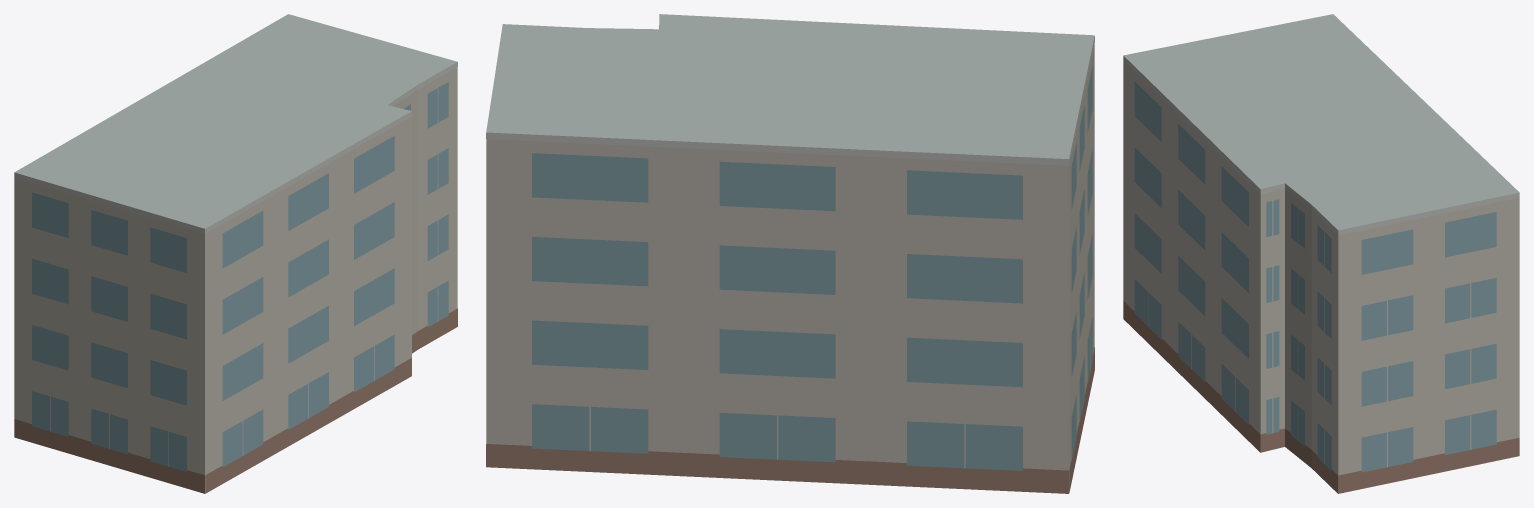
Rendered from survey-upis-32734322.glb.
3 renders of one model, left to right at view 1: azimuth 30°, elevation 25°; view 2: azimuth 150°, elevation 25°; view 3: azimuth 270°, elevation 25°, orthographic. The views are drawn at different scales.
Parts seen in each view (by area): view 1: survey-upis-32734322.tmp; view 2: survey-upis-32734322.tmp; view 3: survey-upis-32734322.tmp.
Part boxes in pixels (left/top/right/bottom): survey-upis-32734322.tmp: left=14, top=14, right=457, bottom=493; survey-upis-32734322.tmp: left=486, top=14, right=1094, bottom=493; survey-upis-32734322.tmp: left=1123, top=14, right=1519, bottom=493.
Size of the model in its own units: 21.85 by 12.4 by 16.92.
